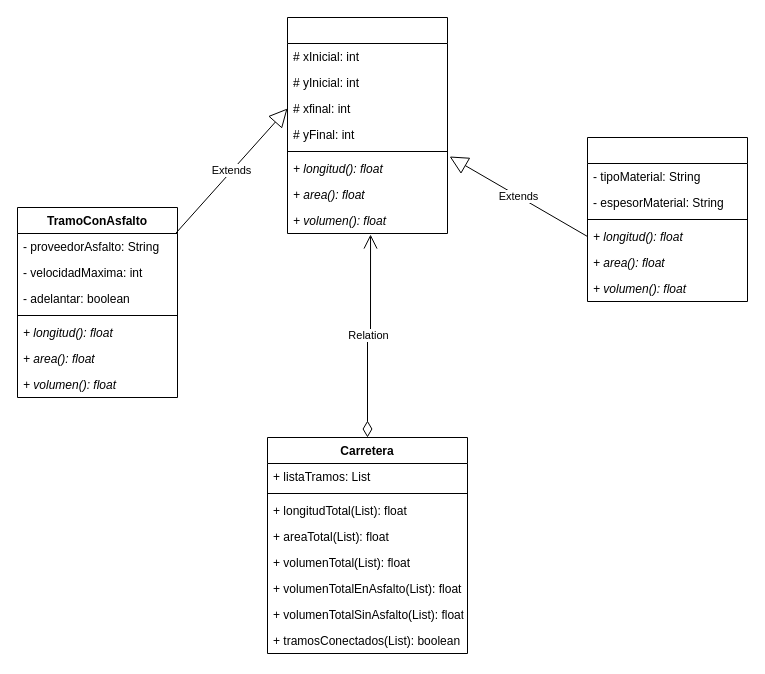
The diagram is 765 pixels wide and 674 high, and some of its shapes have lost their labels. Each missing label, with the box of its shape:
Tramo: (286, 16, 448, 234)
TramoSinAsfalto: (586, 136, 748, 302)
